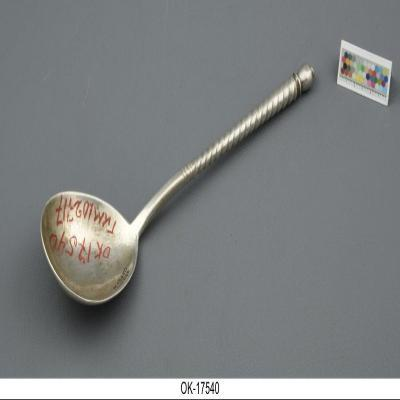dpi: (40, 65, 313, 307)
